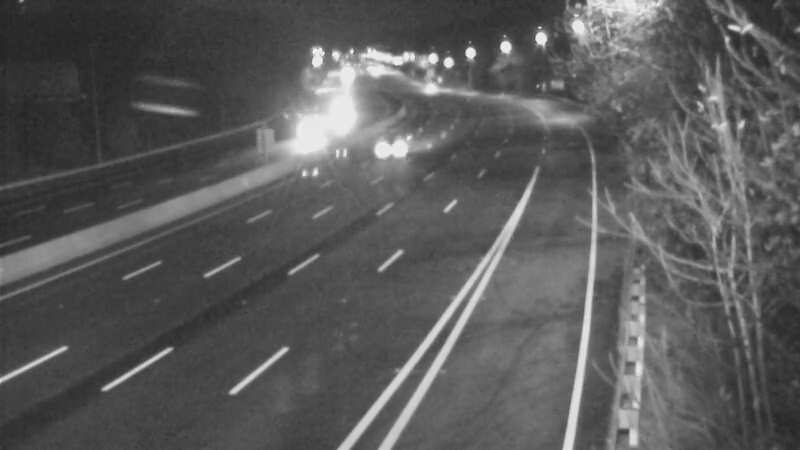vehicle: (403, 58, 453, 108), (374, 119, 424, 169), (285, 110, 335, 160), (316, 88, 366, 138)
